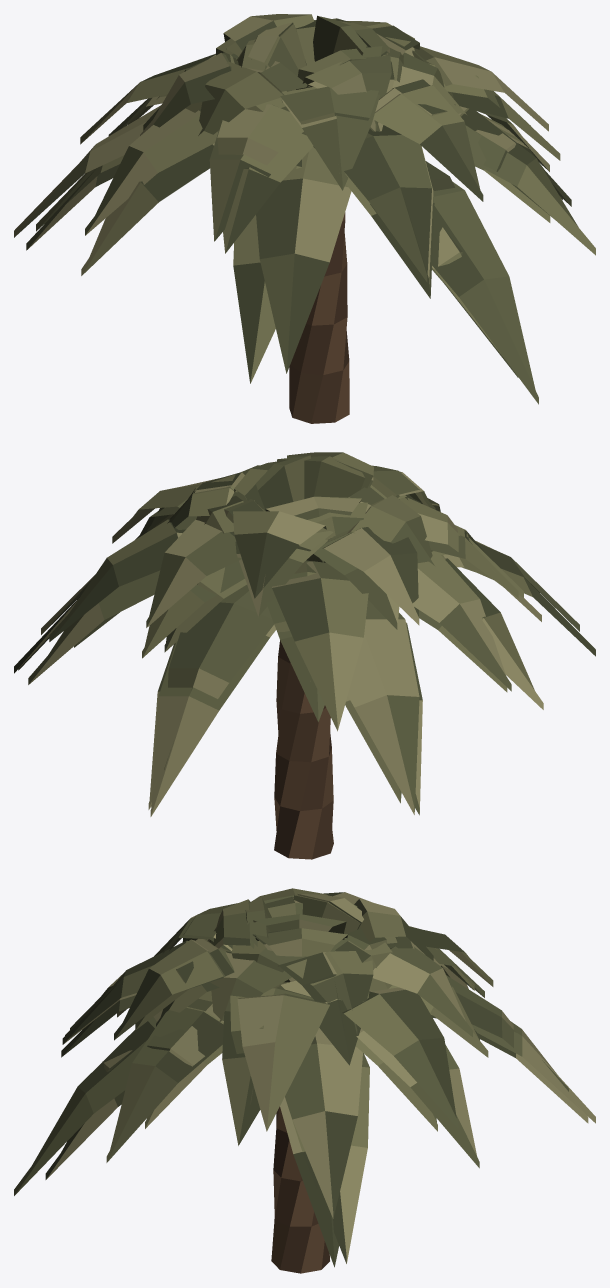
Rendered from palm-canary.glb.
3 views of the same model, one above another, from view 1: azimuth 30°, elevation 25°; view 2: azimuth 150°, elevation 25°; view 3: azimuth 270°, elevation 25° (orthographic). The views are drawn at different scales.
Parts seen in each view (by area): view 1: palm-canary_v2_LOD0, palm-canary_v0_LOD0, palm-canary_v1_LOD0; view 2: palm-canary_v1_LOD0, palm-canary_v0_LOD0, palm-canary_v2_LOD0; view 3: palm-canary_v0_LOD0, palm-canary_v2_LOD0, palm-canary_v1_LOD0.
Part boxes in pixels (x1,y1,x2,y2): palm-canary_v2_LOD0: [26, 14, 550, 373]; palm-canary_v0_LOD0: [36, 15, 571, 423]; palm-canary_v1_LOD0: [14, 18, 595, 383]; palm-canary_v1_LOD0: [14, 465, 595, 814]; palm-canary_v0_LOD0: [18, 452, 541, 859]; palm-canary_v2_LOD0: [41, 456, 579, 816]; palm-canary_v0_LOD0: [14, 895, 588, 1273]; palm-canary_v2_LOD0: [61, 892, 595, 1218]; palm-canary_v1_LOD0: [45, 888, 568, 1263].
Size of what is drawn, in the model's own units: 13.17 by 9.36 by 13.85.
